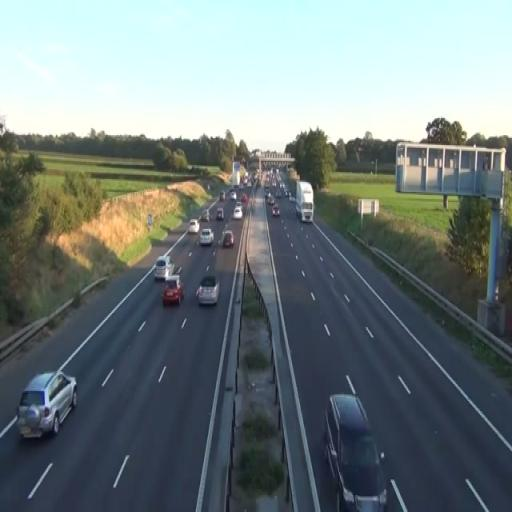Bus: (296, 181, 314, 223)
Car: (324, 394, 388, 512), (18, 368, 78, 441), (196, 274, 220, 306), (162, 276, 184, 306), (154, 254, 175, 282), (200, 228, 214, 246), (222, 230, 234, 248), (189, 219, 200, 233), (233, 206, 243, 220), (272, 204, 280, 218)
